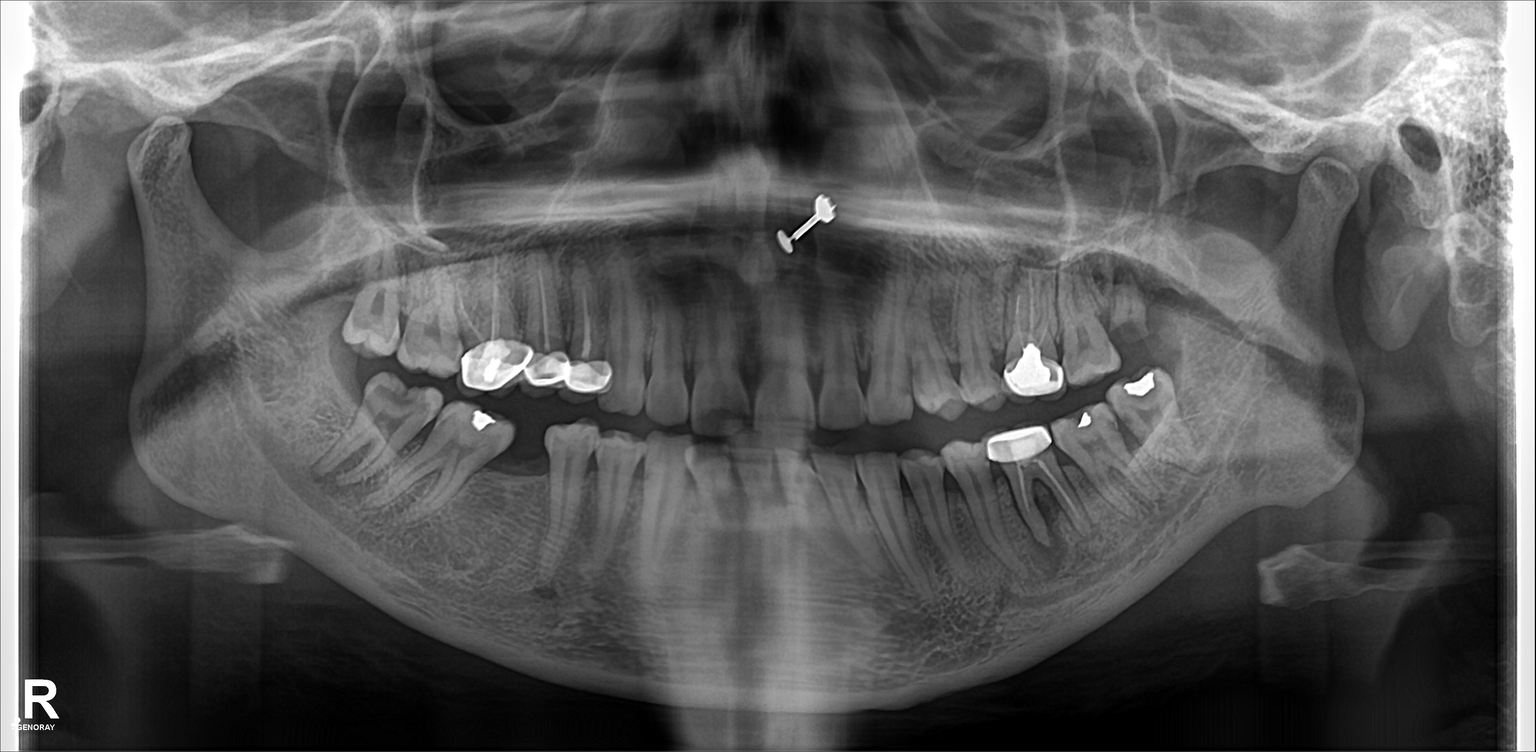Endodontically Treated Tooth: (454, 272, 526, 387), (998, 434, 1064, 547), (562, 277, 606, 396), (1007, 275, 1049, 393), (525, 268, 568, 381)
Missing Tooth: (503, 413, 550, 554)
Retained Root: (1106, 277, 1152, 361)
